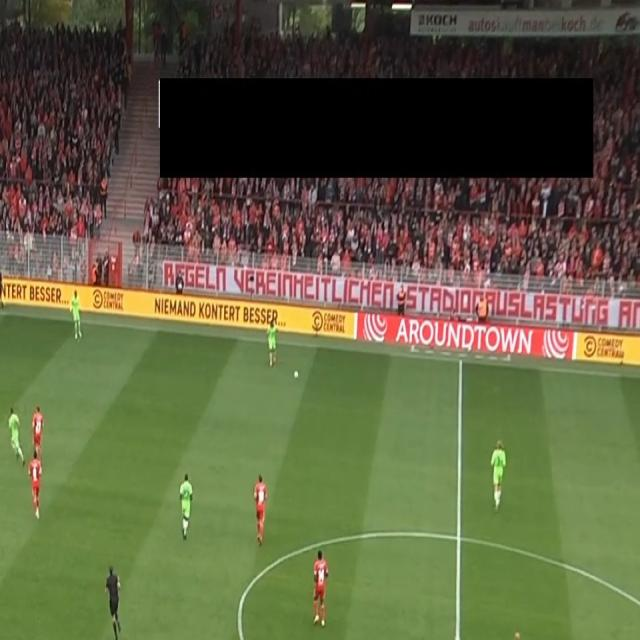ball: (293, 368, 299, 381)
